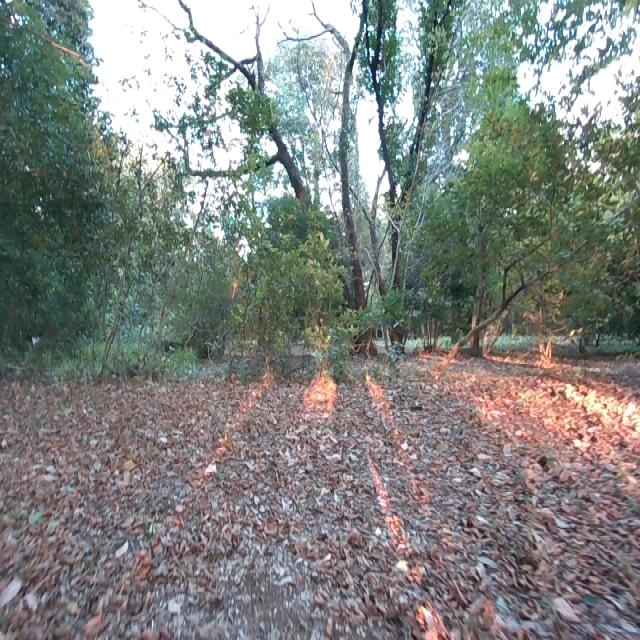bush: (0, 0, 115, 375), (167, 219, 355, 377)
tree: (204, 0, 383, 347), (380, 0, 423, 344), (470, 208, 507, 350)
